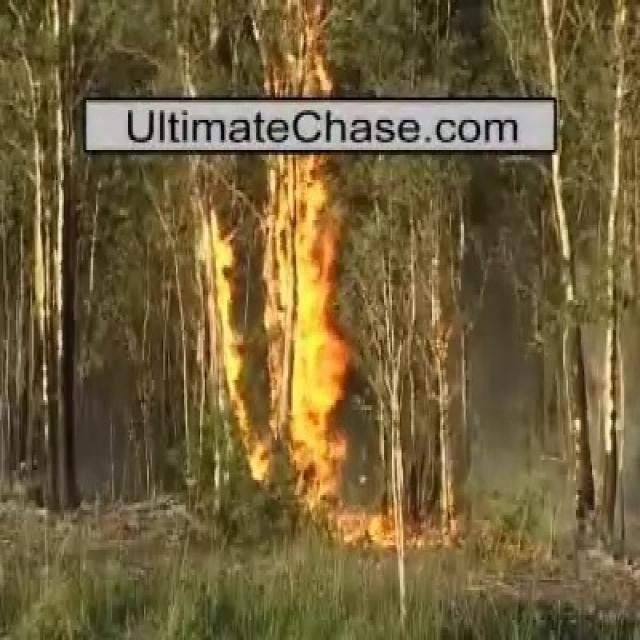fire: (270, 156, 336, 456)
